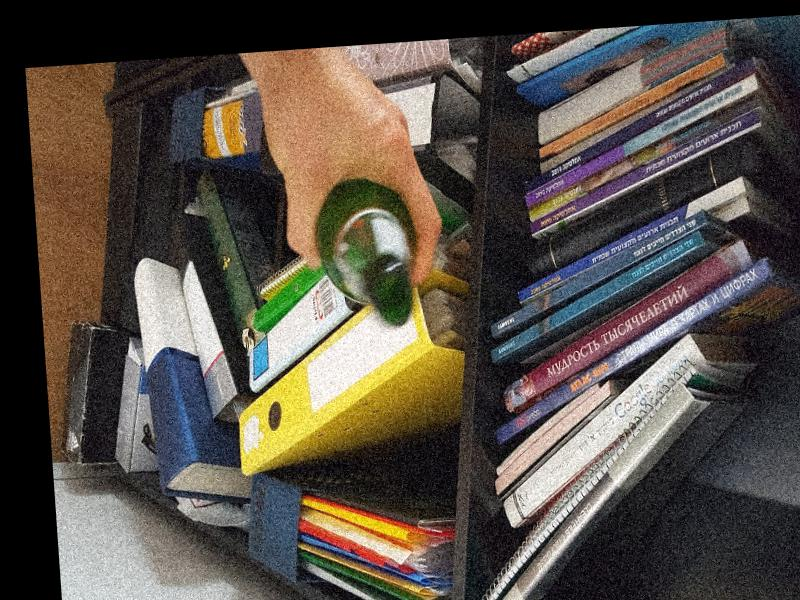Beer: (312, 175, 420, 330)
